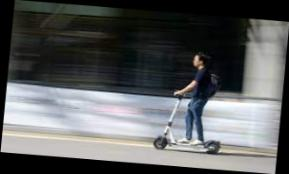nonhelmet: (151, 48, 231, 158)
